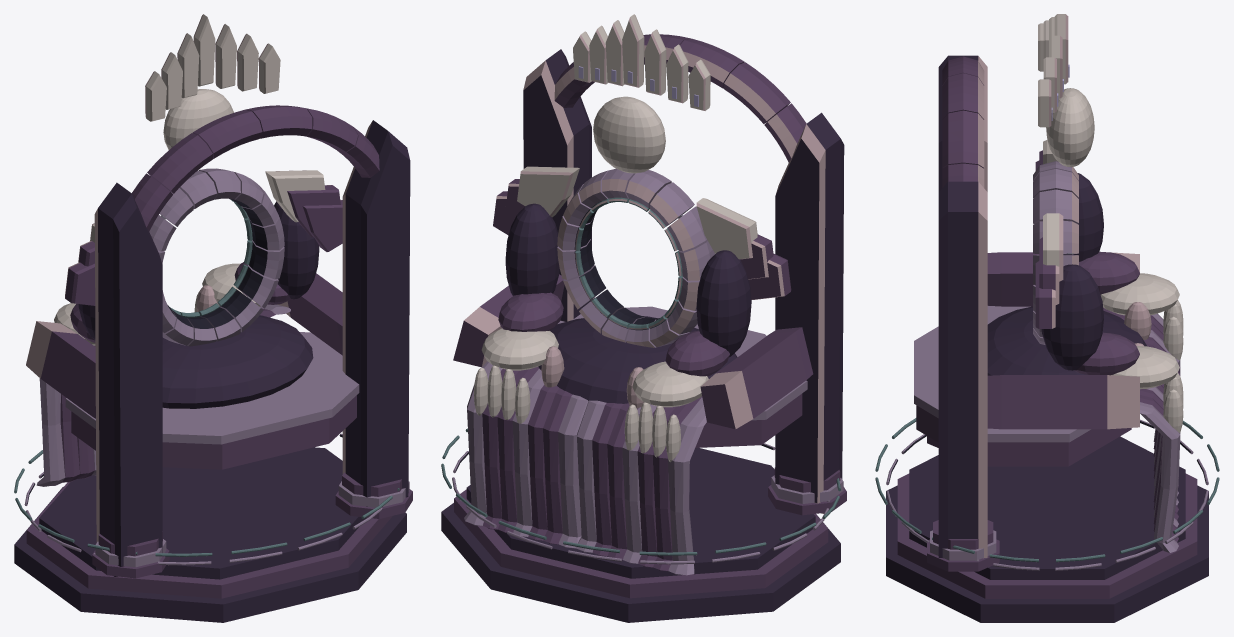
3 views of the same model, side by side, from view 1: azimuth 30°, elevation 25°; view 2: azimuth 150°, elevation 25°; view 3: azimuth 270°, elevation 25° (orthographic).
Parts seen in each view (by area): view 1: throne_pier_-1, throne_pier_1, dais_2, seat, dais_0, lap, dais_1, sleeve_1, head, robe_-1_6, arch_-1_1, arch_-1_2 (+34 smaller); view 2: throne_pier_-1, dais_2, dais_0, throne_pier_1, dais_1, sleeve_-1, sleeve_1, lap, palm_1, palm_-1, head, seat (+48 smaller); view 3: throne_pier_1, dais_2, dais_0, seat, dais_1, sleeve_1, lap, throne_pier_-1, palm_-1, sleeve_-1, head, robe_1_6 (+17 smaller).
Boxes of the visible parts, <box> form: throne_pier_-1: <box>26,182,169,578</box>; throne_pier_1: <box>277,120,412,518</box>; dais_2: <box>39,447,366,579</box>; seat: <box>65,332,359,469</box>; dais_0: <box>14,487,406,622</box>; lap: <box>162,315,313,408</box>; dais_1: <box>26,482,392,598</box>; sleeve_1: <box>234,201,319,304</box>; head: <box>163,89,233,158</box>; robe_-1_6: <box>36,378,65,486</box>; arch_-1_1: <box>147,133,212,193</box>; arch_-1_2: <box>192,109,262,158</box>; throne_pier_-1: <box>700,112,846,515</box>; dais_2: <box>466,448,815,578</box>; dais_0: <box>441,503,840,622</box>; throne_pier_1: <box>453,49,591,367</box>; dais_1: <box>454,489,828,598</box>; sleeve_-1: <box>665,250,751,376</box>; sleeve_1: <box>498,203,563,331</box>; lap: <box>538,316,737,403</box>; palm_1: <box>473,328,564,423</box>; palm_-1: <box>624,361,708,462</box>; head: <box>593,96,665,173</box>; seat: <box>558,306,807,447</box>; throne_pier_1: <box>927,181,1139,571</box>; dais_2: <box>909,436,1185,579</box>; dais_0: <box>886,485,1208,622</box>; seat: <box>914,306,1131,466</box>; dais_1: <box>897,473,1197,598</box>; sleeve_1: <box>1041,264,1139,375</box>; lap: <box>987,306,1146,375</box>; throne_pier_-1: <box>927,55,1139,447</box>; palm_-1: <box>1100,273,1183,360</box>; sleeve_-1: <box>1063,173,1139,294</box>; head: <box>1046,88,1094,166</box>; robe_1_6: <box>1140,402,1180,552</box>.
Bounding box in the file's own units: 8.43 × 12 × 7.07.
Materials: 1 (1 with a texture image).
